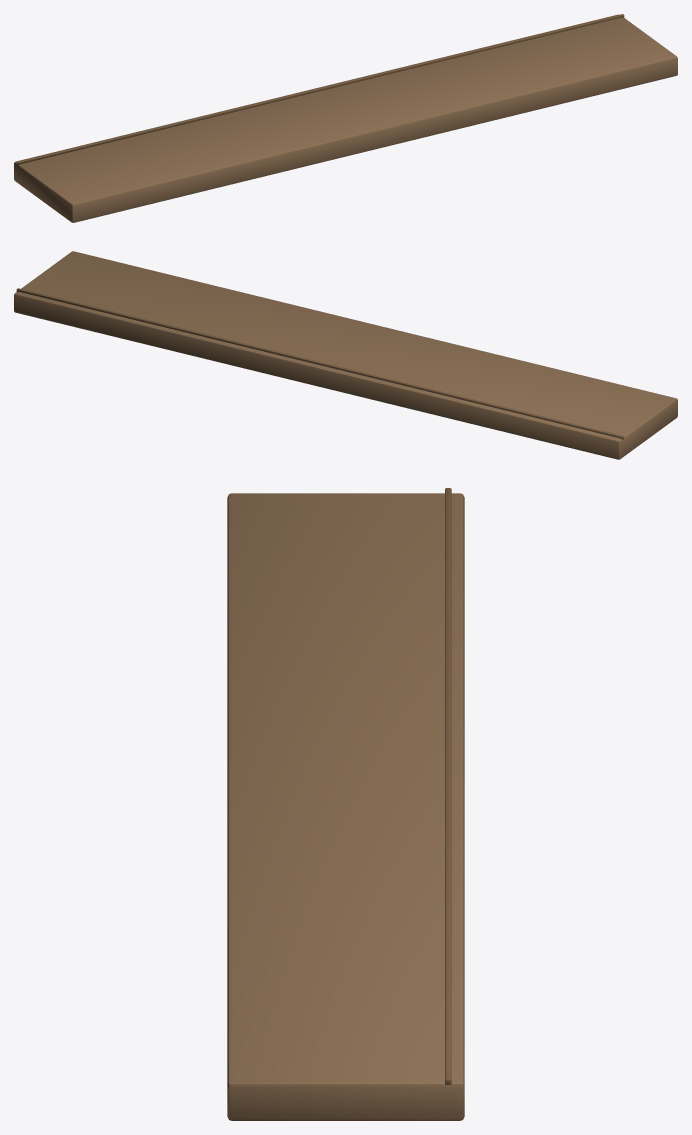
Rendered from window_sill.glb.
The picture shows the model from 3 angles, top to bottom: view 1: azimuth 30°, elevation 25°; view 2: azimuth 150°, elevation 25°; view 3: azimuth 270°, elevation 25°; orthographic projection. The views are drawn at different scales.
Parts seen in each view (by area): view 1: window_sill; view 2: window_sill; view 3: window_sill.
Part boxes in pixels (x1,y1,x2,y2): window_sill: [14, 14, 677, 222]; window_sill: [14, 251, 677, 459]; window_sill: [227, 488, 464, 1120].
Size of the model in its own units: 1.3 by 0.044 by 0.22.
